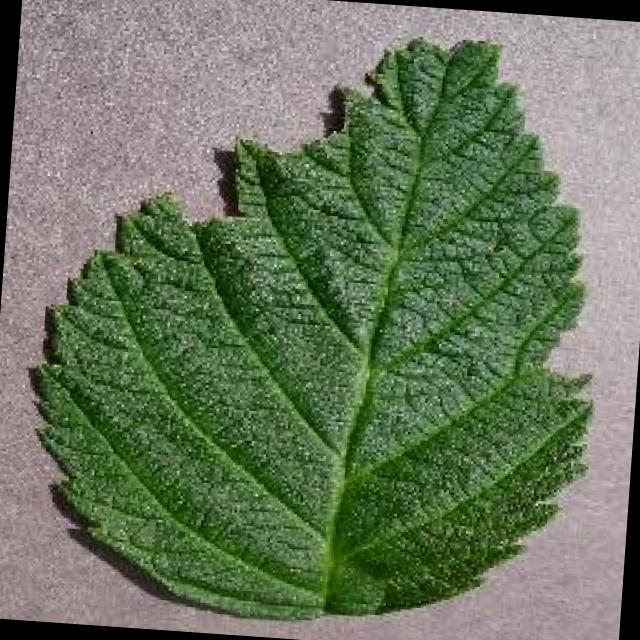healthy: (38, 41, 592, 612)
